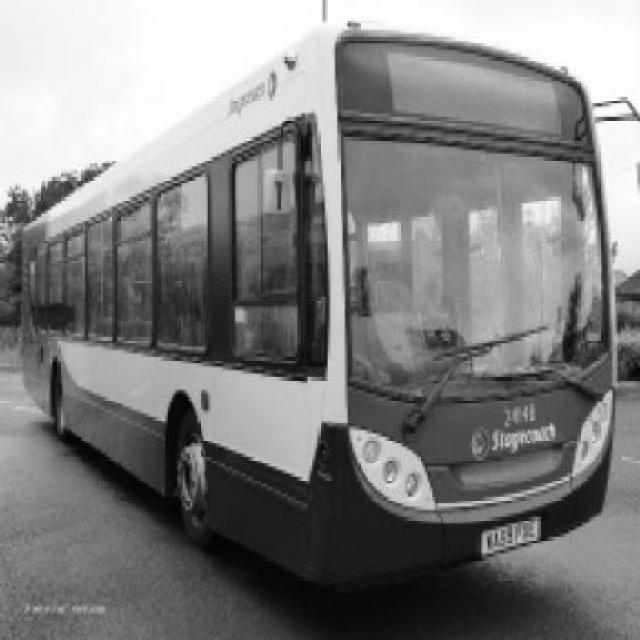Bus: (20, 20, 619, 597)
